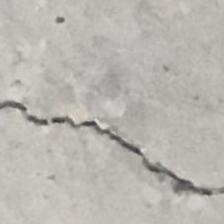Crack: (3, 90, 224, 203)
